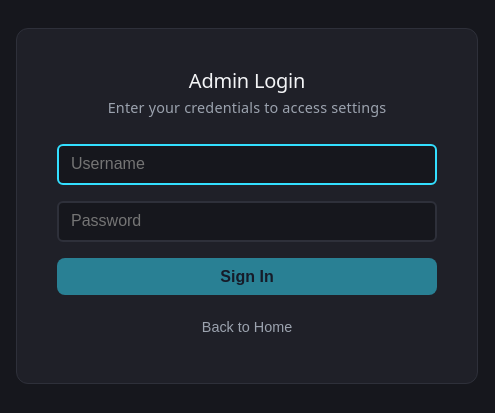
AdminLogin › shows error message on failed login (non-ok response)
In the field with placeholder "Username": [247, 164] box [57,144,437,185], type "admin"
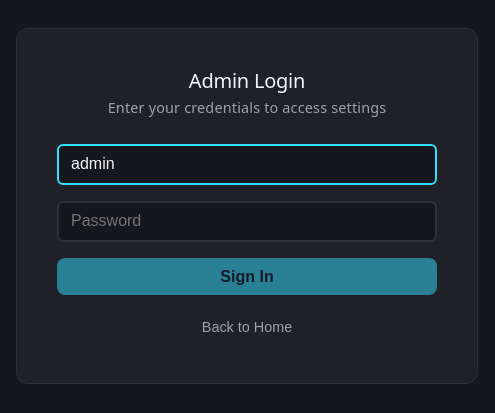
In the password field with placeholder "Password": [247, 221] box [57,201,437,242], type "wrong"
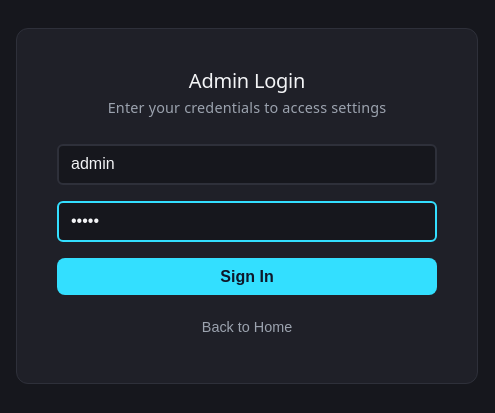
Click the button "Sign In": [247, 277] box [57,258,437,295]
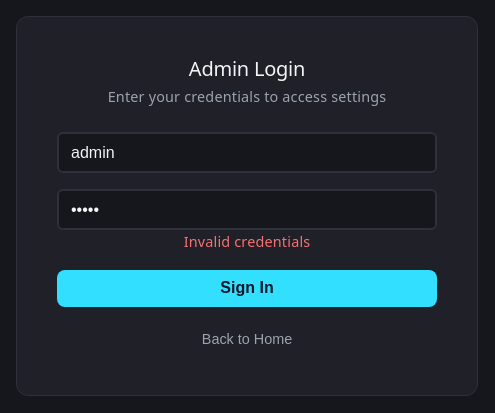
expect the text "Invalid credentials" is shown: met, box [184,232,310,251]
